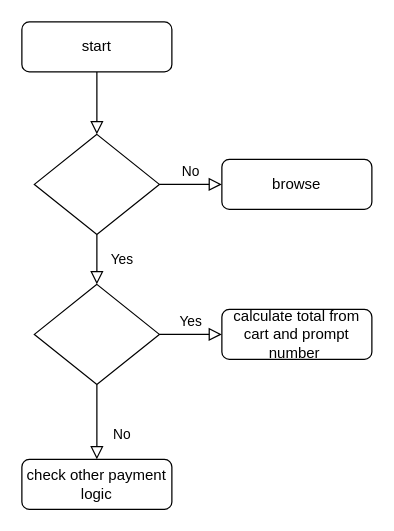
Image size: 394x531. Some labels were removed from this diagram. The shapes that lost their labels are listed below. From the top down, each one's centre as x and y in pixels, then its label:
At (96,183): "Add to cart".
At (96,333): "mpesa method?".
